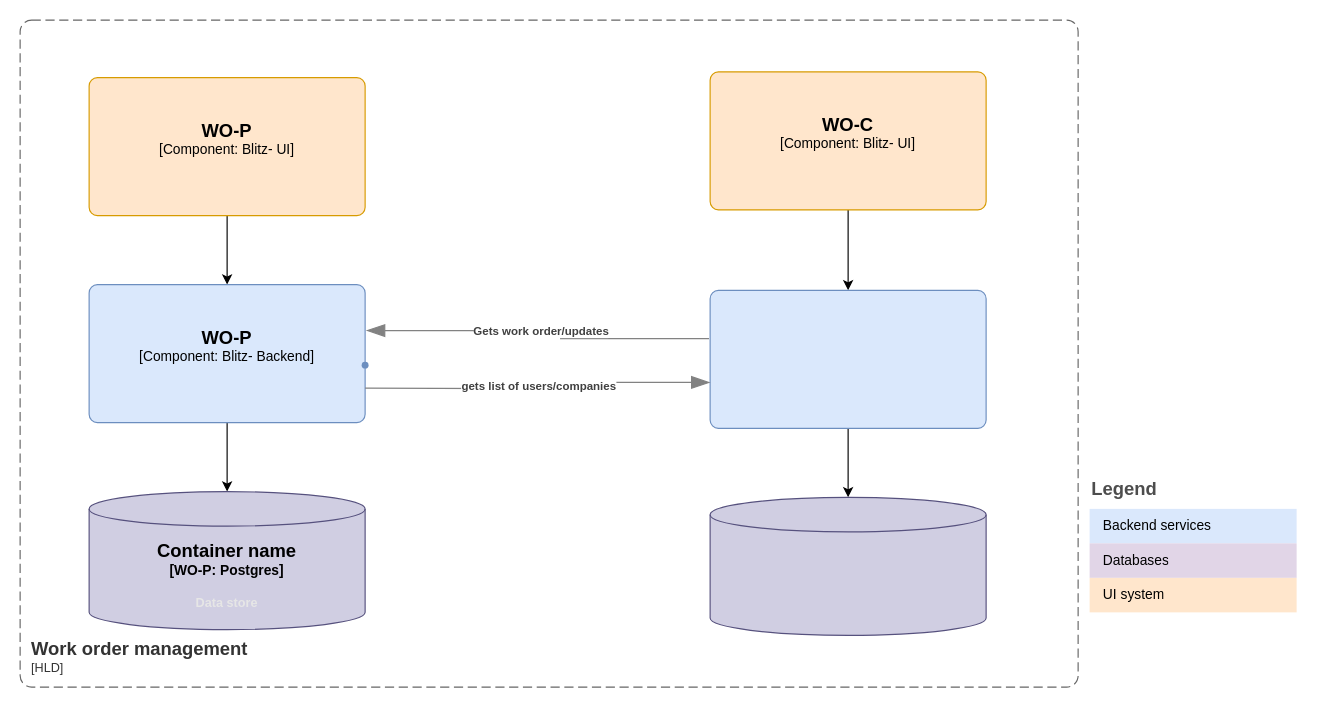
Image size: 1317x707. Some labels were removed from this diagram. Each missing label, with the centre of its shape:
Container name [WO-C: Postgres] Data store: point 847,565
WO-C [Component: Blitz- Backend]: point 847,358
